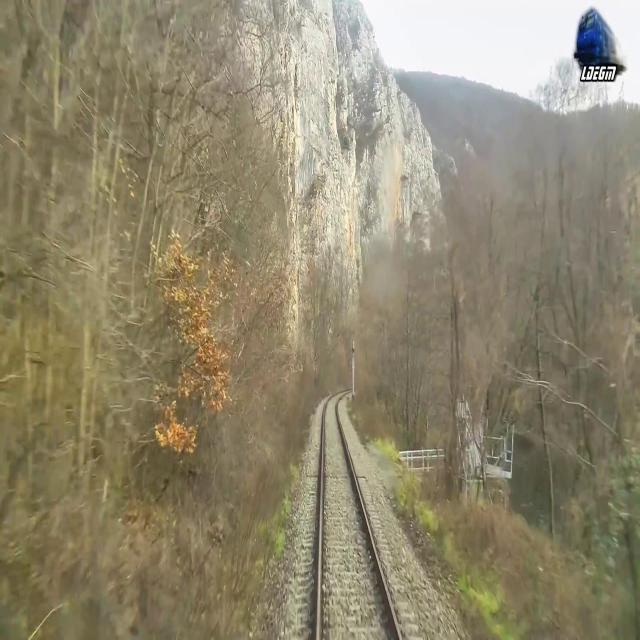rail-track: (321, 398, 397, 639)
